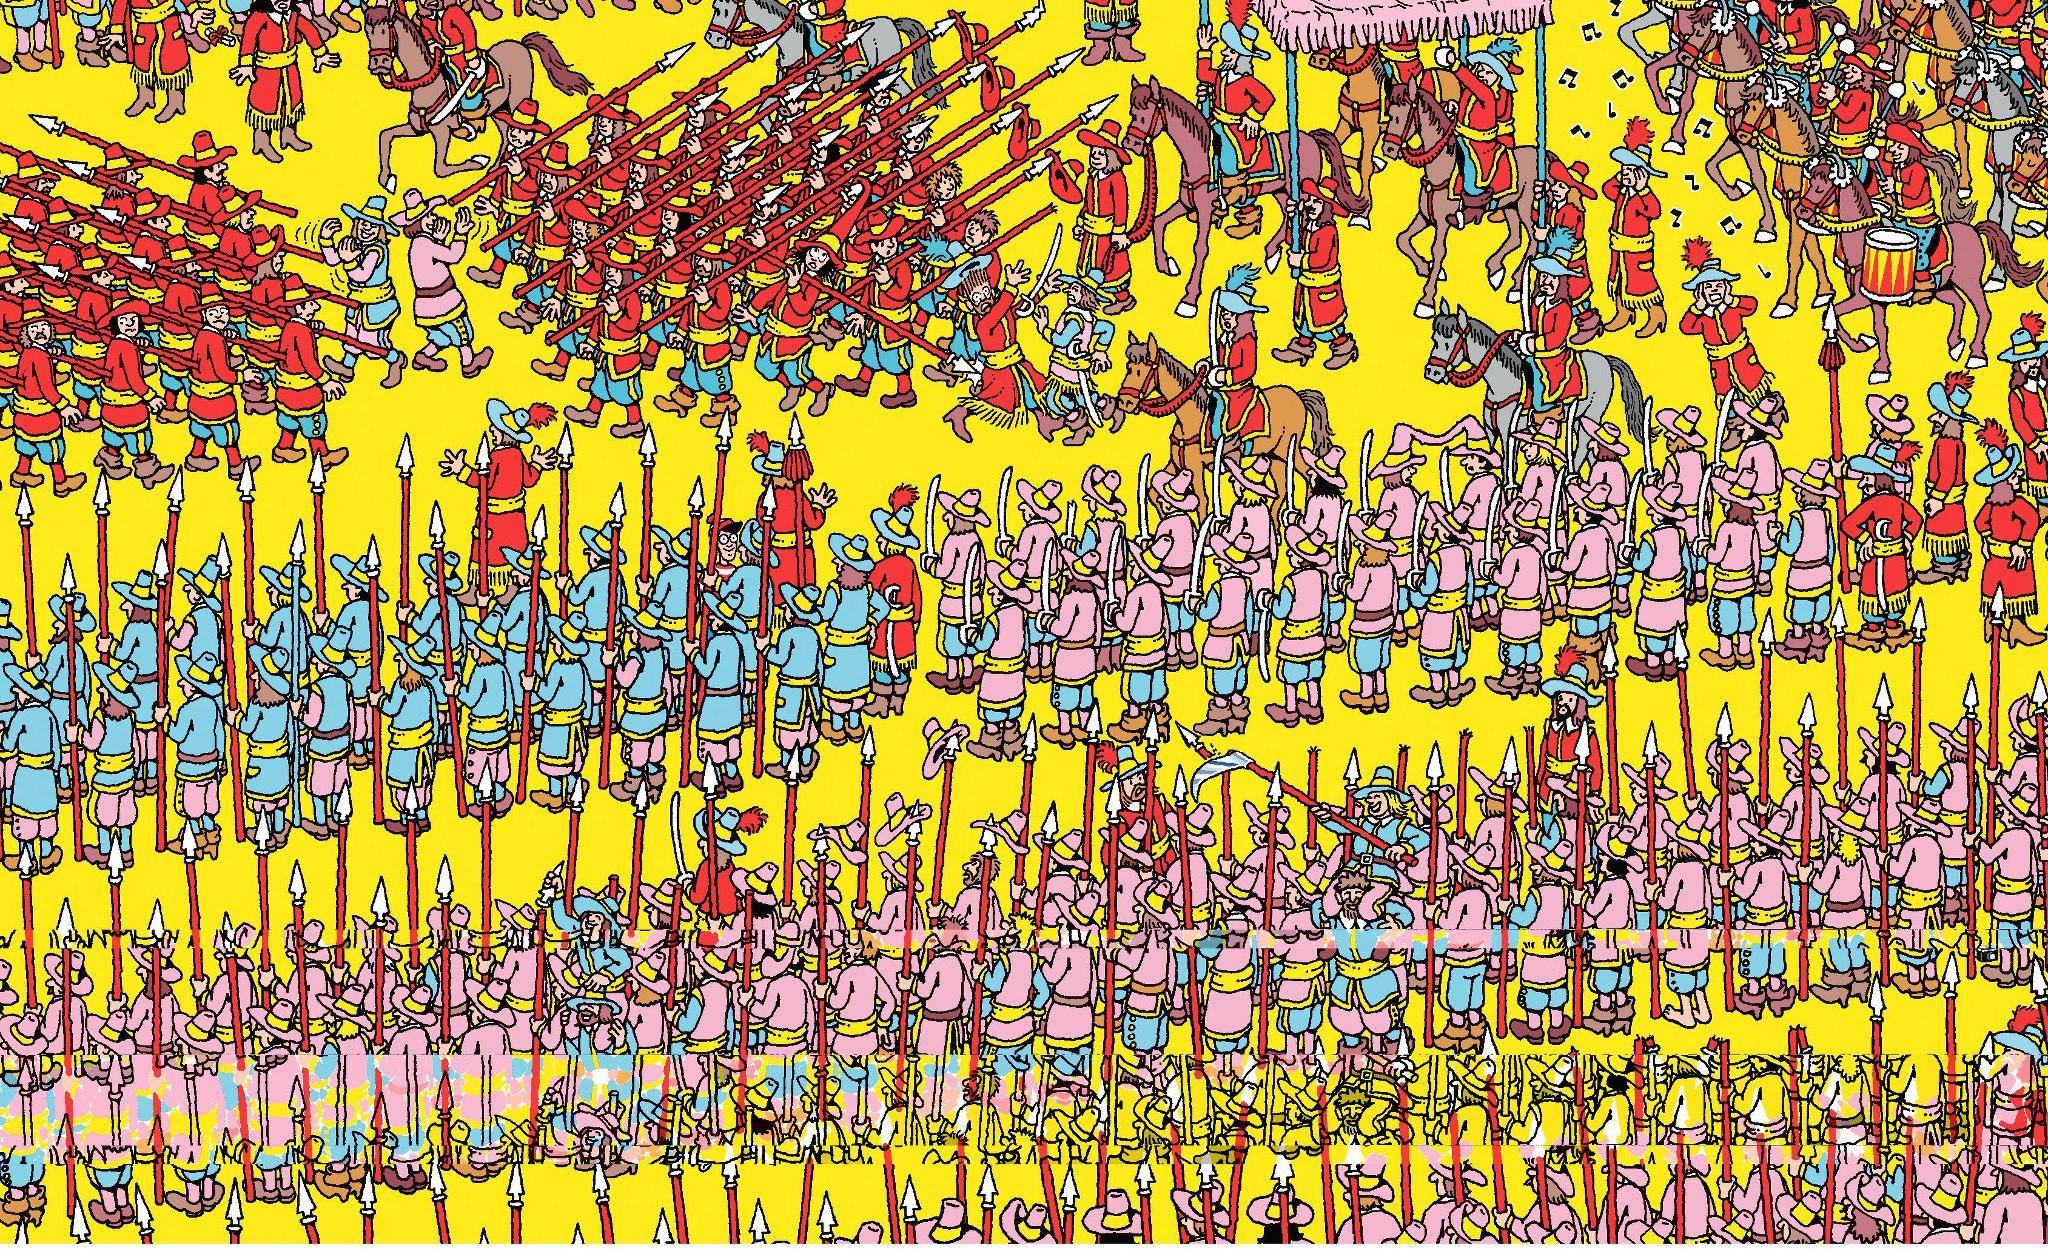waldo: (707, 514, 743, 562)
